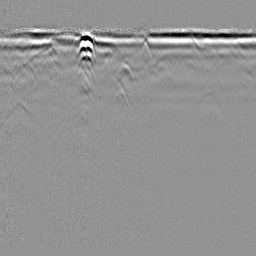cavity: (114, 59, 137, 91)
